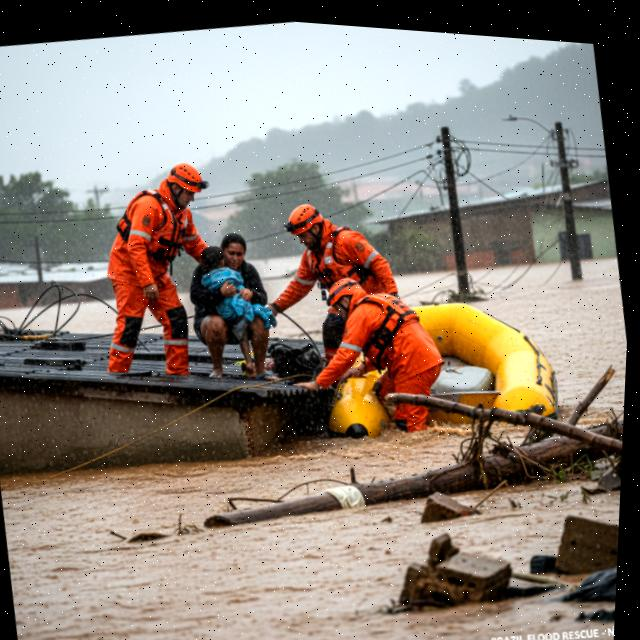civilian: (175, 219, 285, 395), (189, 238, 272, 343)
rescuer: (71, 143, 231, 390), (275, 263, 449, 462), (247, 179, 413, 379)
